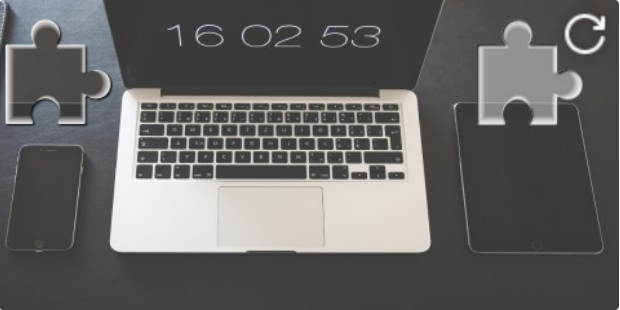target: (478, 20, 583, 125)
